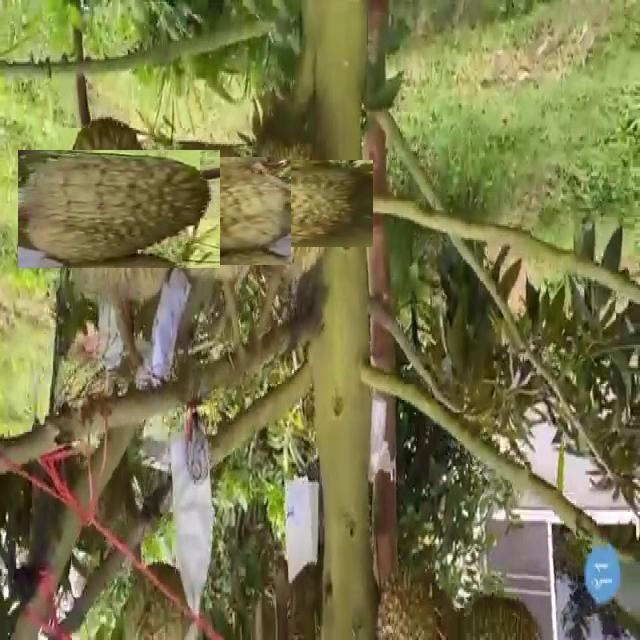durian: (39, 129, 200, 290), (148, 146, 280, 276), (228, 141, 354, 267)
